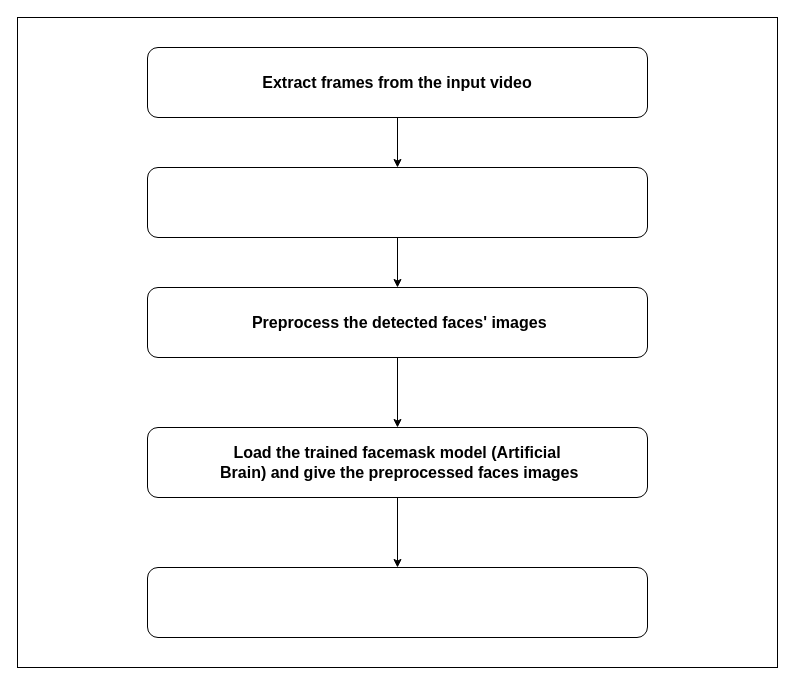
Image size: 795x685. Some labels were removed from this diagram. Each missing label, with the centre of its shape:
Detect faces using "SSD + ResNet 10" model (Artificial Brain): the point at 397,202
Display the output: the point at 397,602
